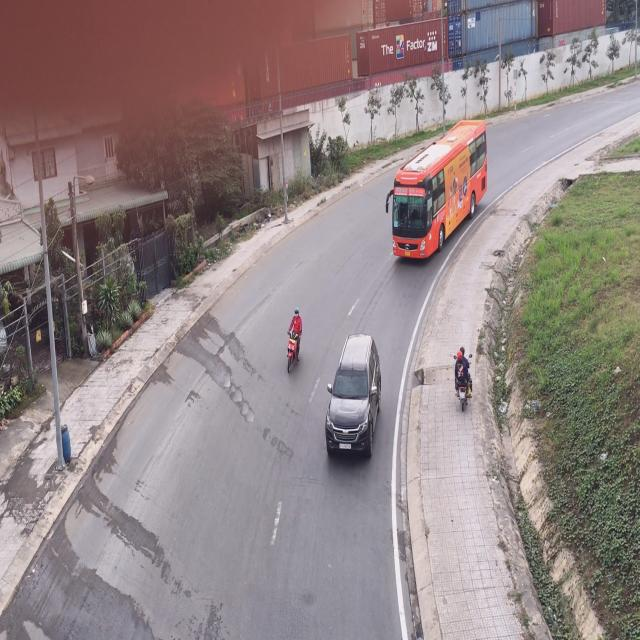bus: (389, 119, 489, 265)
car: (326, 335, 382, 461)
motorbike: (284, 310, 302, 378), (454, 346, 472, 411)
